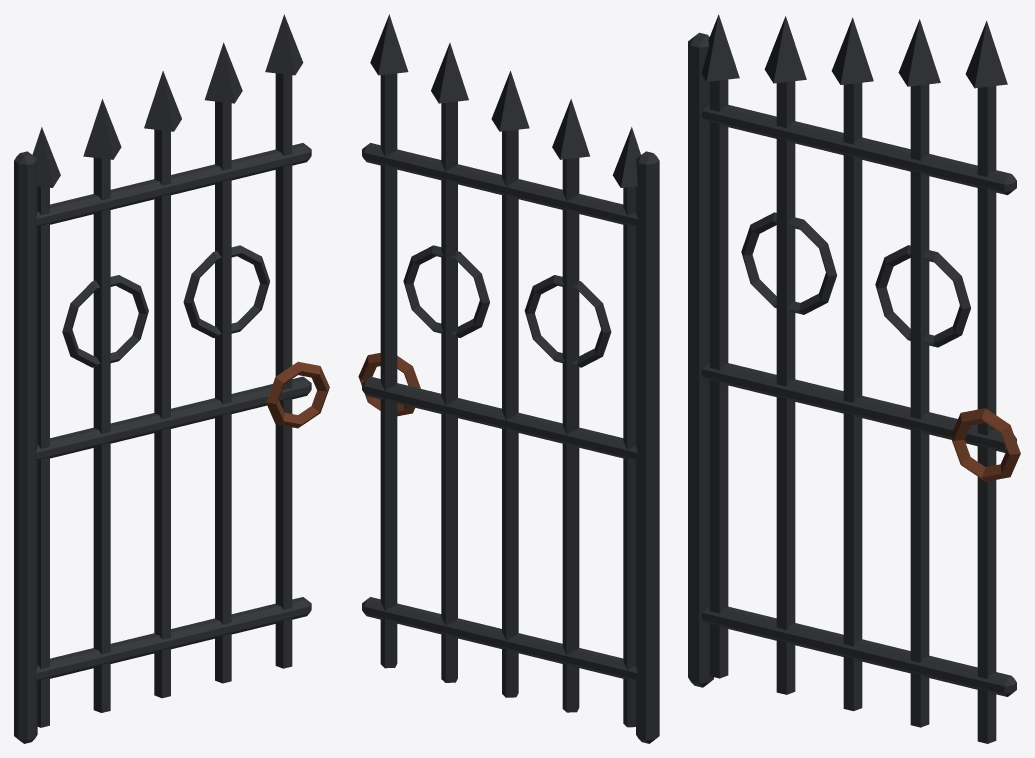
Rendered from gate_leaf.glb.
The picture shows the model from 3 angles, left to right: view 1: azimuth 30°, elevation 25°; view 2: azimuth 150°, elevation 25°; view 3: azimuth 330°, elevation 25°; orthographic projection. The views are drawn at different scales.
Parts seen in each view (by area): view 1: GateLeaf; view 2: GateLeaf; view 3: GateLeaf.
Part boxes in pixels (x1,y1,x2,y2): GateLeaf: [14, 14, 329, 743]; GateLeaf: [358, 14, 659, 743]; GateLeaf: [688, 14, 1020, 743].
Bounding box in the file's own units: 0.48 × 0.995 × 0.06.
